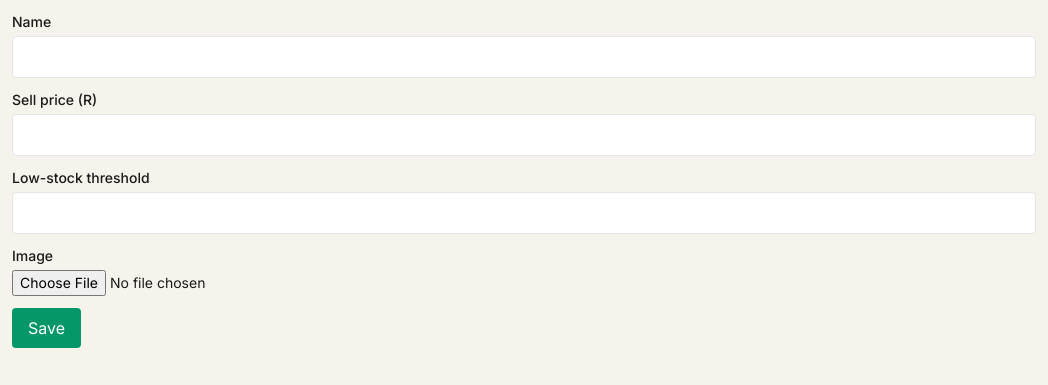
it: ProductForm › shows a validation error for a price with too many decimal places
In the field labelled "Name": (524, 57) [12, 36, 1036, 78], type "Bread"
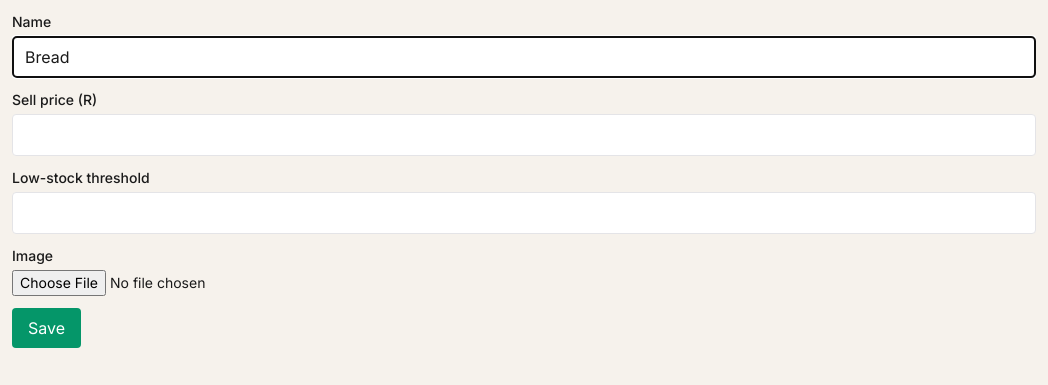
In the field labelled "Sell price (R)": (524, 135) [12, 114, 1036, 156], type "1.999"
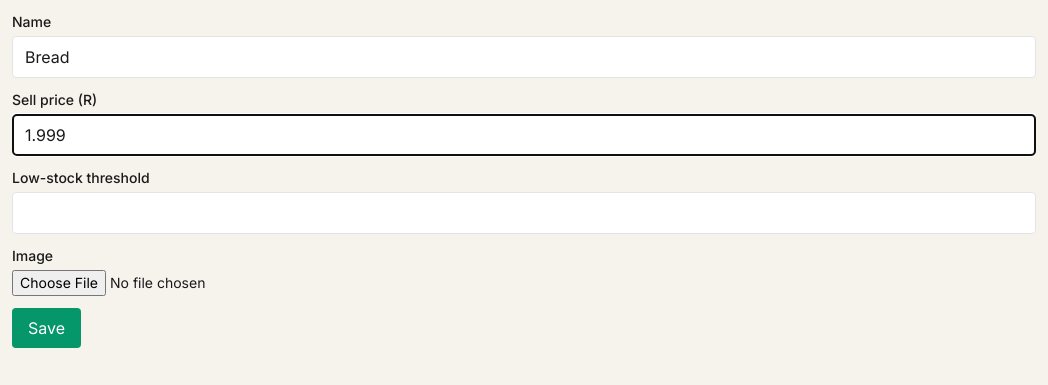
Click the button "Save": (46, 328) [12, 308, 81, 348]
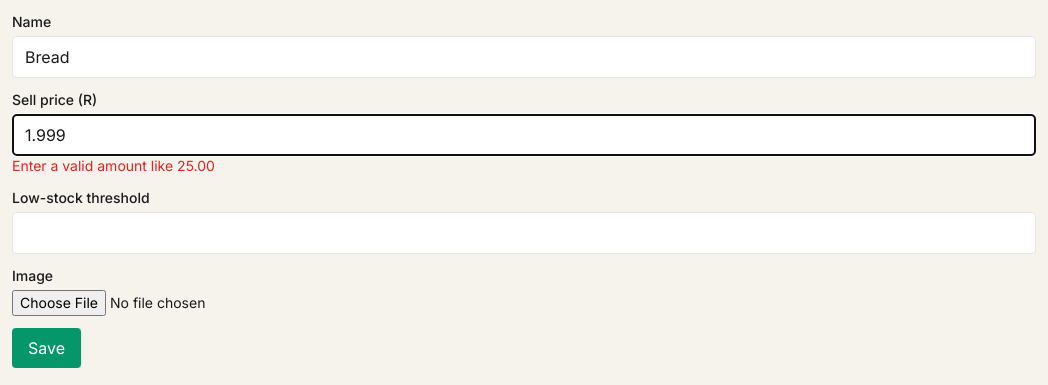
Expected: the text "Enter a valid amount like 25.00" is shown, [12, 157, 215, 174]
